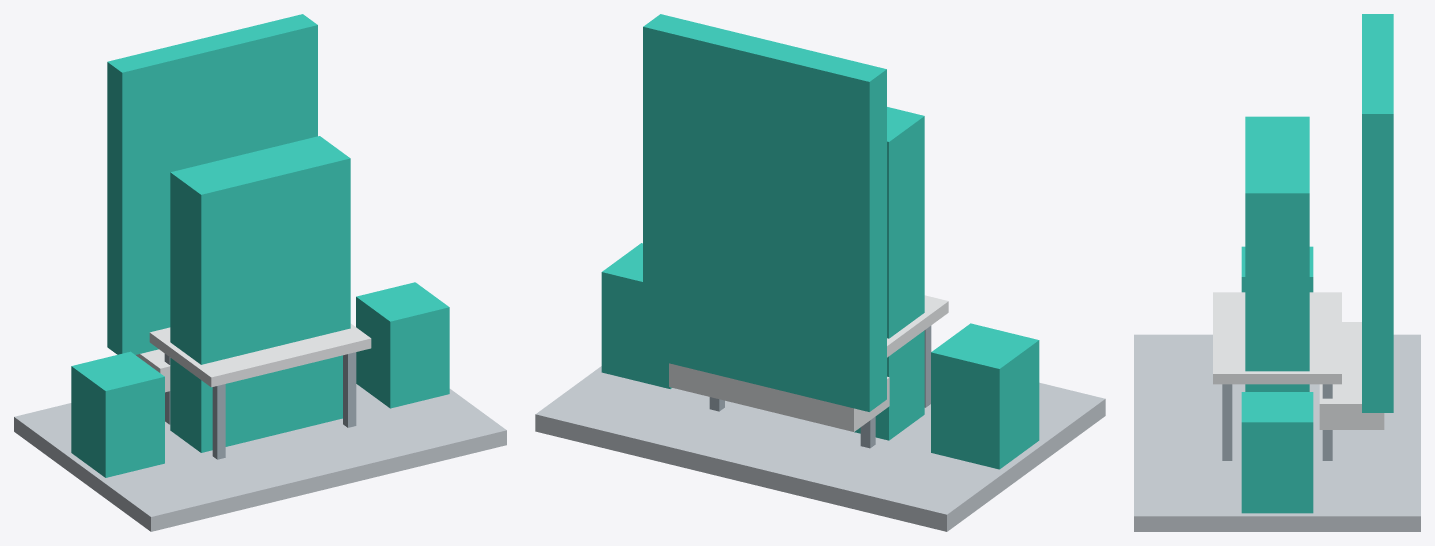
The picture shows the model from 3 angles, left to right: view 1: azimuth 30°, elevation 25°; view 2: azimuth 150°, elevation 25°; view 3: azimuth 270°, elevation 25°; orthographic projection. The views are drawn at different scales.
Visible parts, largest first — view 1: Exhibition Booth Concept; view 2: Exhibition Booth Concept; view 3: Exhibition Booth Concept.
Boxes of the visible parts, box(x1,y1,x2,y2) form: Exhibition Booth Concept: box(14, 14, 506, 531); Exhibition Booth Concept: box(535, 14, 1105, 531); Exhibition Booth Concept: box(1134, 14, 1420, 531).
Bounding box in the file's own units: 3 × 2.9 × 2.
